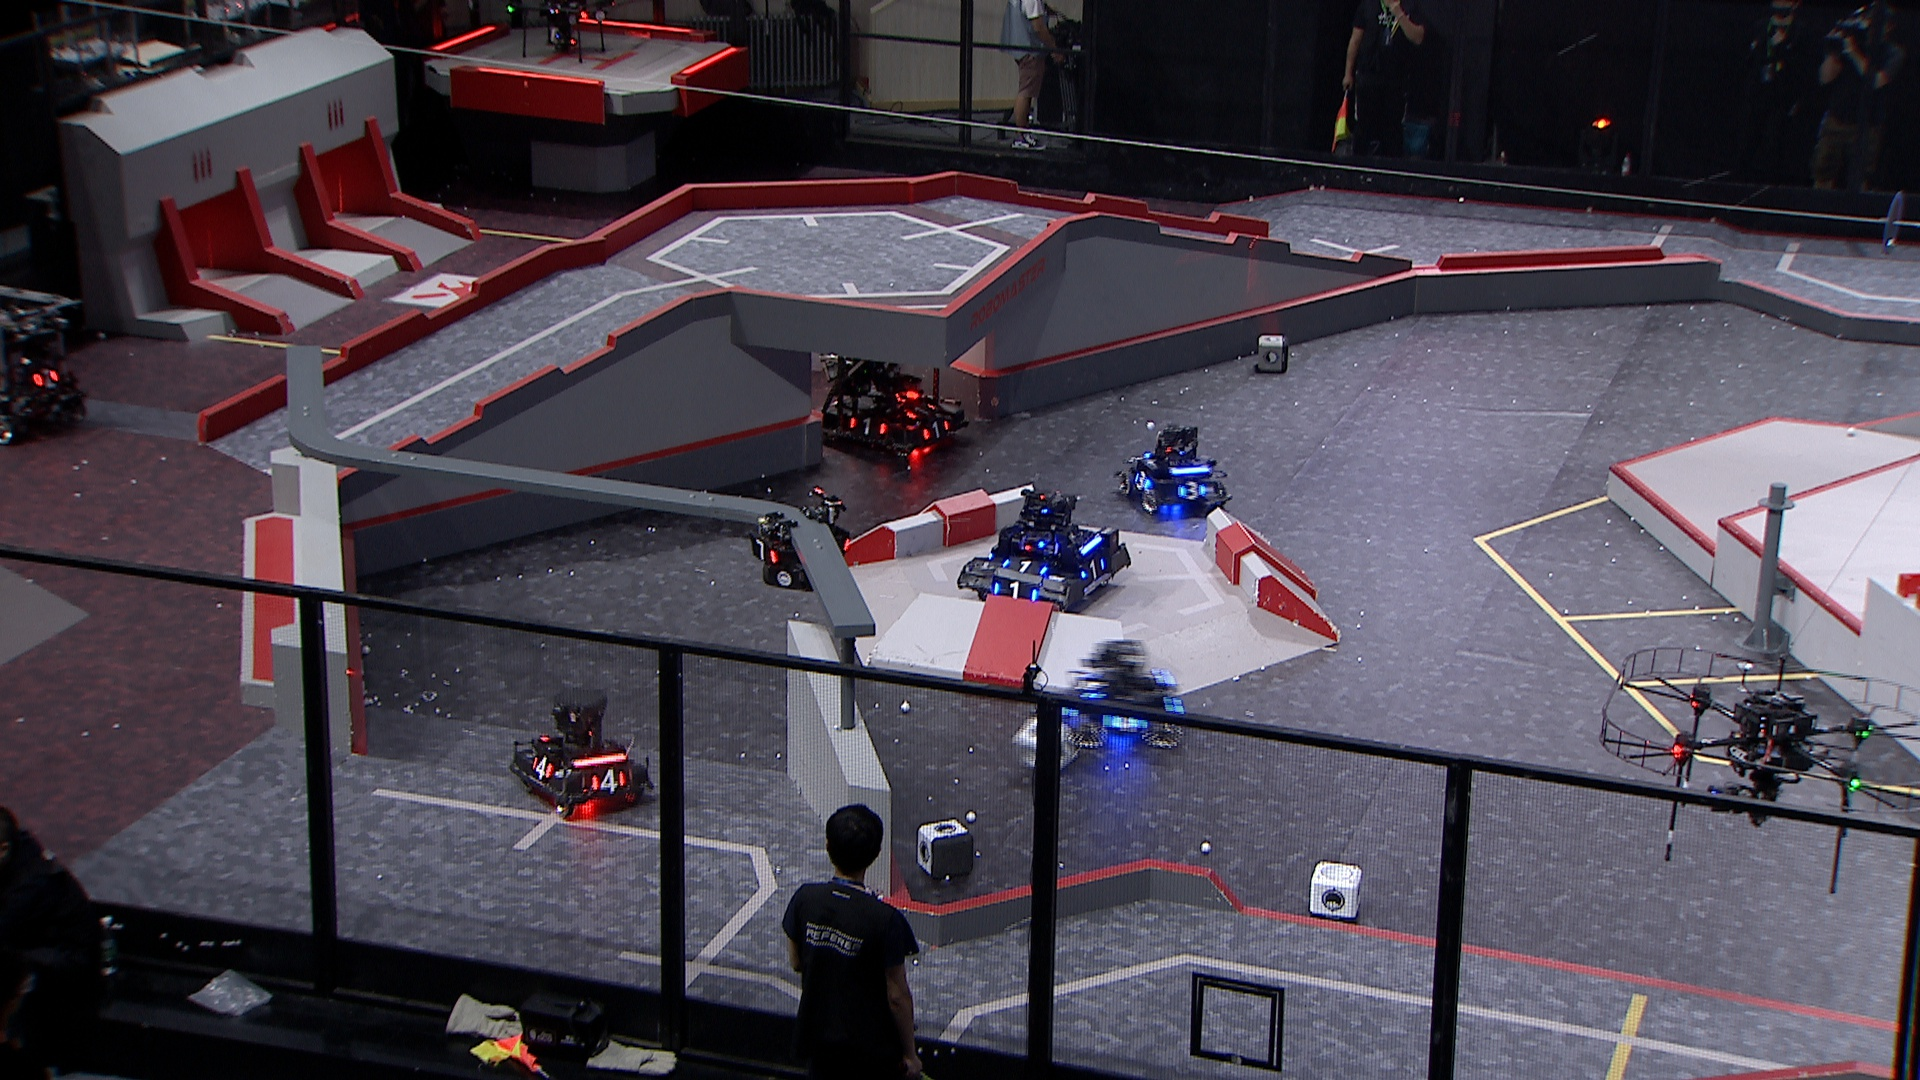armor: (986, 580, 1039, 603), (589, 767, 629, 796), (1105, 709, 1149, 736), (1002, 556, 1050, 578), (1076, 675, 1109, 703), (1077, 556, 1109, 584), (845, 418, 889, 438), (29, 367, 65, 389), (750, 541, 782, 564), (922, 418, 953, 439), (531, 754, 555, 782), (1179, 481, 1209, 502), (1131, 469, 1154, 493), (903, 404, 939, 417)
car: (812, 315, 971, 465), (957, 488, 1133, 613), (506, 688, 655, 818), (1059, 637, 1191, 750), (1116, 425, 1234, 518)
watcher: (744, 487, 855, 597)
